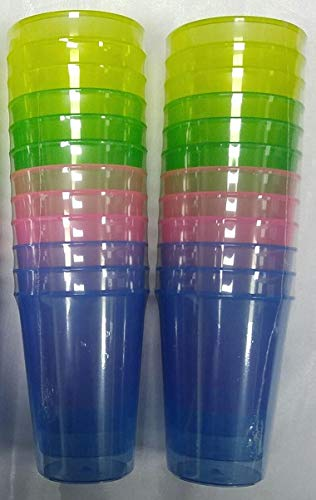plastic_bottle: (149, 287, 298, 493), (11, 284, 153, 489)
